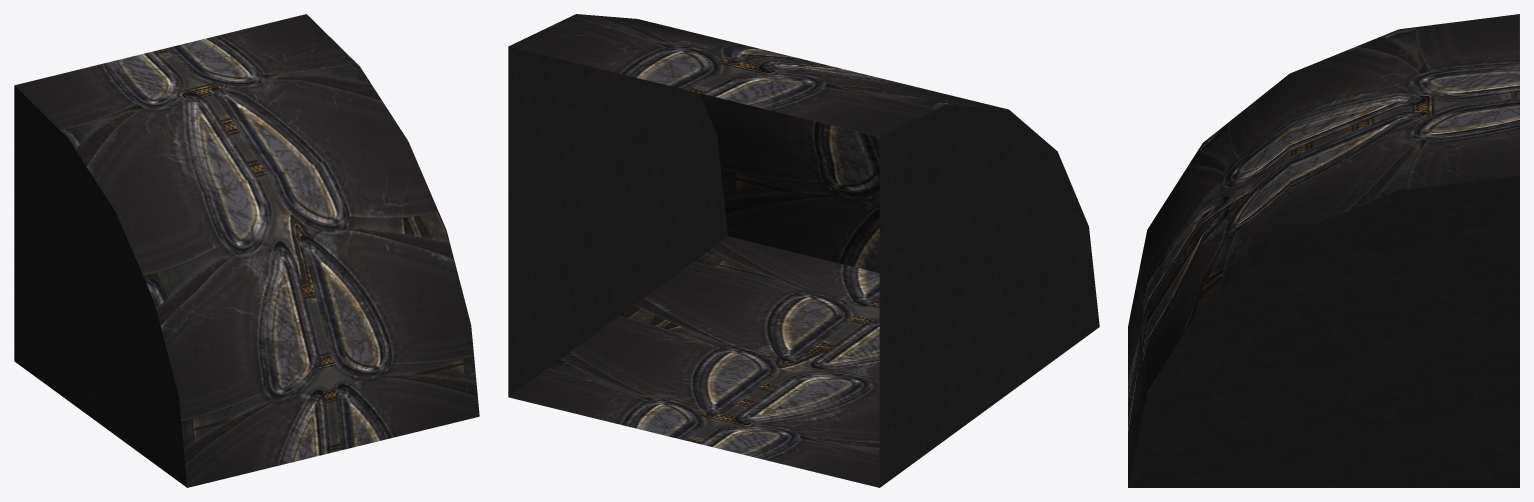
Rendered from CubeBaseFrontBackground7.fbx.
3 views of the same model, side by side, from view 1: azimuth 30°, elevation 25°; view 2: azimuth 150°, elevation 25°; view 3: azimuth 270°, elevation 25° (orthographic). The views are drawn at different scales.
Visible parts, largest first — view 1: pCylinder9; view 2: pCylinder9; view 3: pCylinder9.
Part boxes in pixels (bbox=[...]): pCylinder9: bbox=[14, 14, 479, 487]; pCylinder9: bbox=[508, 14, 1099, 487]; pCylinder9: bbox=[1128, 14, 1519, 487].
Size of the model in its own units: 1 by 0.9021 by 1.03.
1 material, 1 textured.
